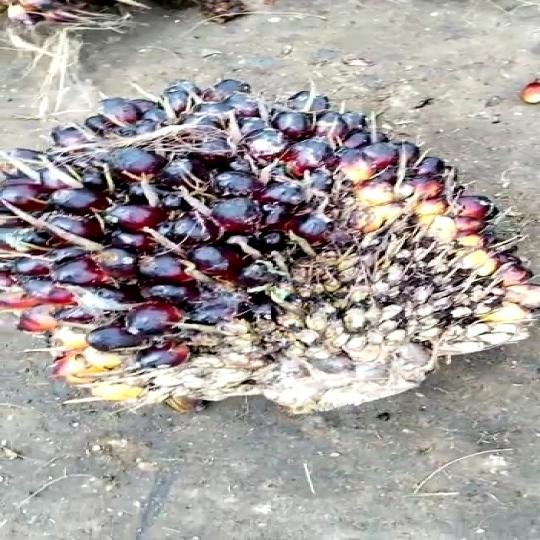mentah: (7, 70, 536, 423)
